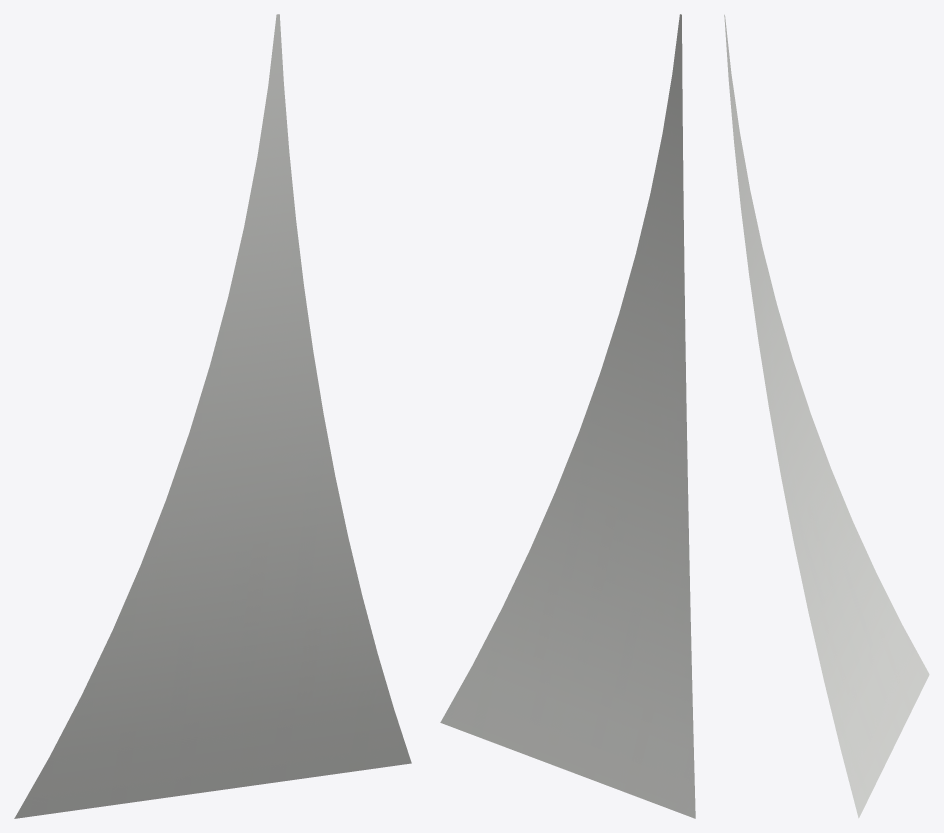
The model's file is 大本钟203.dae.
3 renders of one model, left to right at view 1: azimuth 30°, elevation 25°; view 2: azimuth 150°, elevation 25°; view 3: azimuth 270°, elevation 25°, orthographic. The views are drawn at different scales.
Parts seen in each view (by area): view 1: SketchUp; view 2: SketchUp; view 3: SketchUp.
Part boxes in pixels (x1,y1,x2,y2): SketchUp: (14, 14, 411, 818); SketchUp: (440, 14, 695, 818); SketchUp: (724, 14, 929, 818).
Size of the model in its own units: 242 by 145 by 561.
